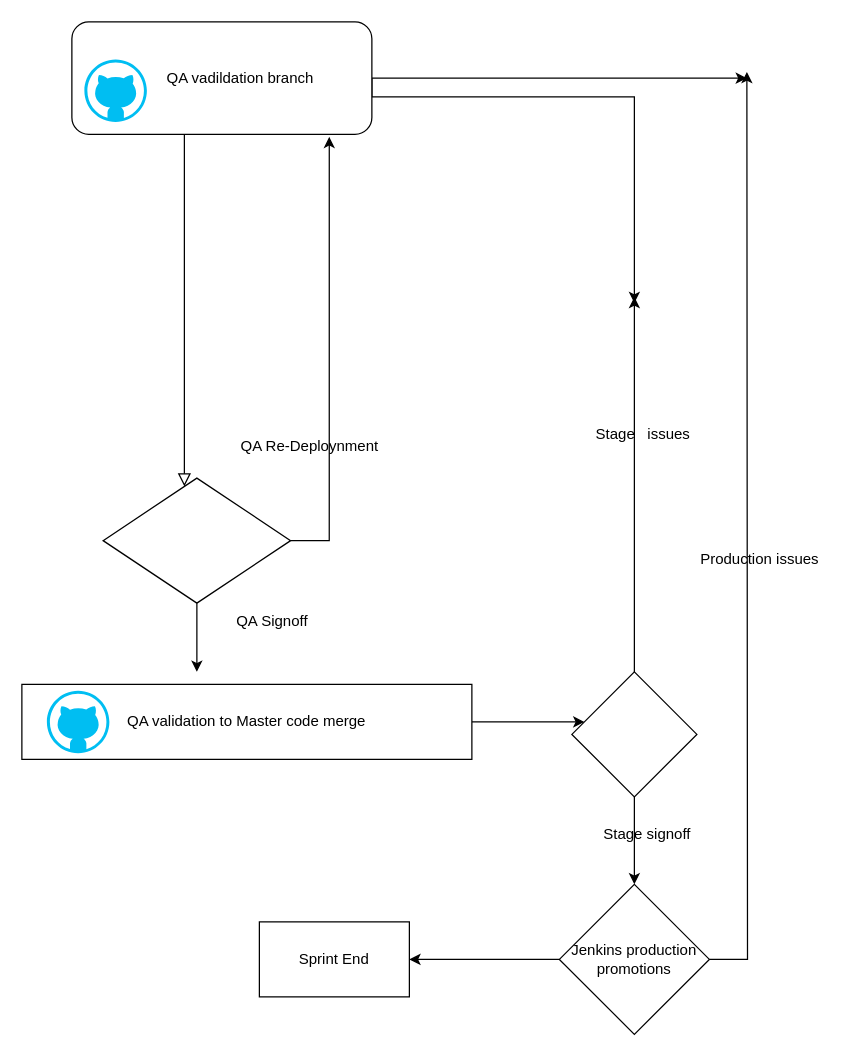
Image size: 856x1056. Some labels were removed from this diagram. The centre of each missing label's shape, as x and y in pixels:
"Jenkins stage environment" goes at point 634,734.
"Jenkins-QA env" goes at point 196,540.
